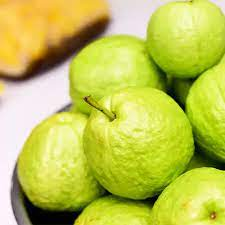guava: (81, 86, 194, 199), (17, 111, 104, 210), (145, 1, 225, 78)
